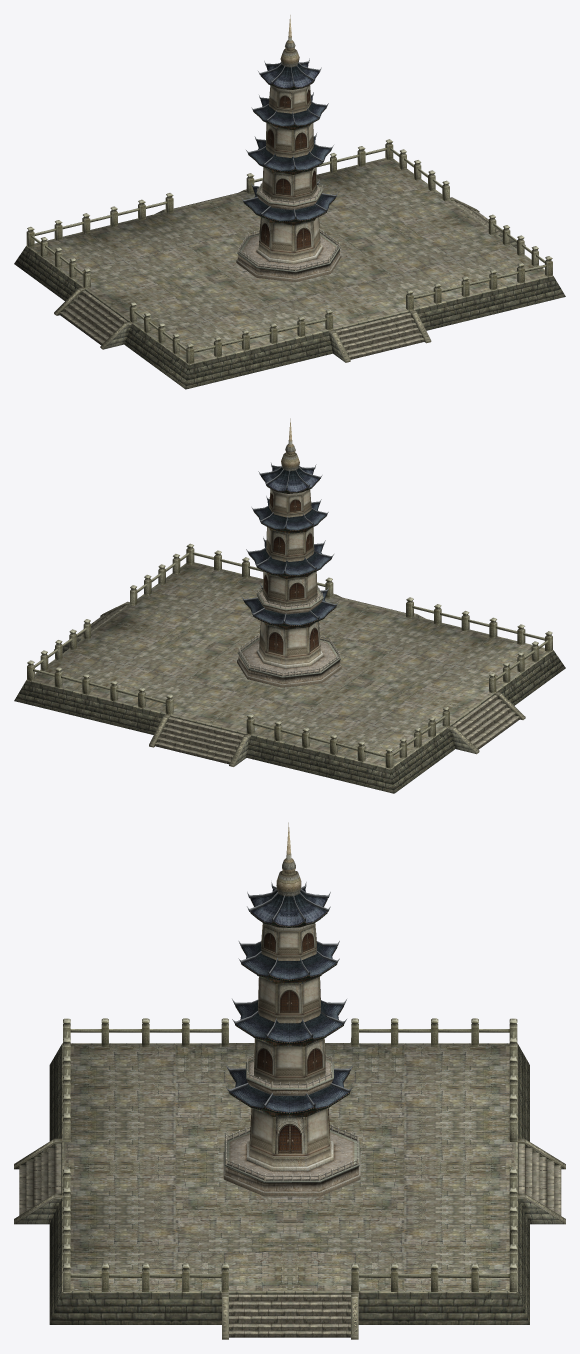
File: ob-013-tower01.fbx
3 views of the same model, one above another, from view 1: azimuth 30°, elevation 25°; view 2: azimuth 150°, elevation 25°; view 3: azimuth 270°, elevation 25° (orthographic). The views are drawn at different scales.
Parts seen in each view (by area): view 1: ob-013-tower01_04, ob-013-tower01_02, ob-013-tower01_03, ob-013-tower01_01; view 2: ob-013-tower01_04, ob-013-tower01_02, ob-013-tower01_03, ob-013-tower01_01; view 3: ob-013-tower01_04, ob-013-tower01_02, ob-013-tower01_03, ob-013-tower01_01.
Boxes of the visible parts, x1=… form: ob-013-tower01_04: x1=14, y1=139, x2=565, y2=389; ob-013-tower01_02: x1=241, y1=48, x2=338, y2=264; ob-013-tower01_03: x1=243, y1=15, x2=335, y2=225; ob-013-tower01_01: x1=236, y1=181, x2=341, y2=282; ob-013-tower01_04: x1=14, y1=543, x2=565, y2=793; ob-013-tower01_02: x1=241, y1=452, x2=338, y2=668; ob-013-tower01_03: x1=244, y1=418, x2=336, y2=629; ob-013-tower01_01: x1=237, y1=585, x2=341, y2=687; ob-013-tower01_04: x1=14, y1=1018, x2=565, y2=1339; ob-013-tower01_02: x1=226, y1=870, x2=353, y2=1171; ob-013-tower01_03: x1=229, y1=822, x2=349, y2=1116; ob-013-tower01_01: x1=223, y1=1054, x2=360, y2=1196.
Bounding box in the file's own units: 85.02 × 51.17 × 68.69.
